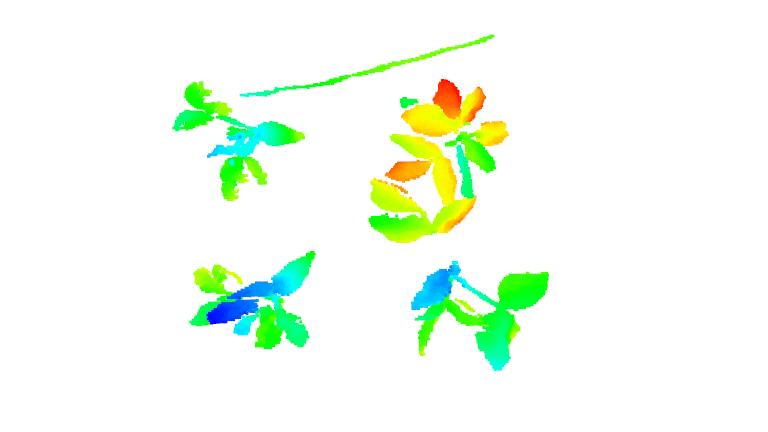mungbean: (366, 76, 512, 247), (166, 80, 307, 203), (409, 256, 554, 374), (187, 247, 323, 354)
